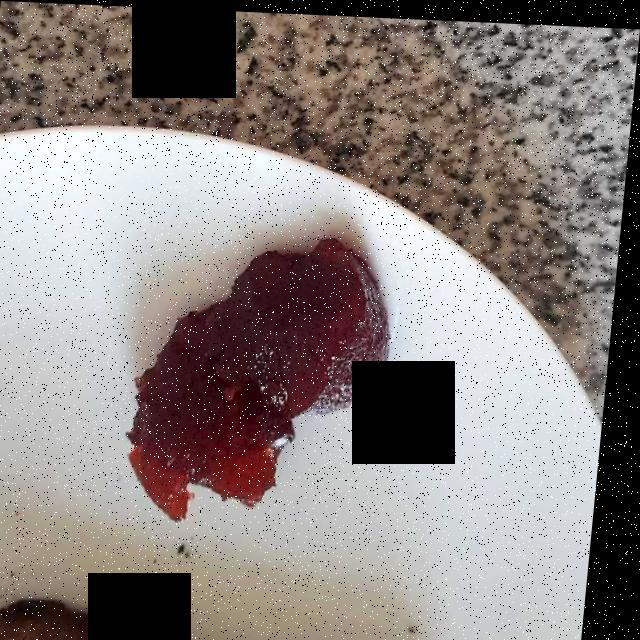jam: (142, 238, 395, 511)
